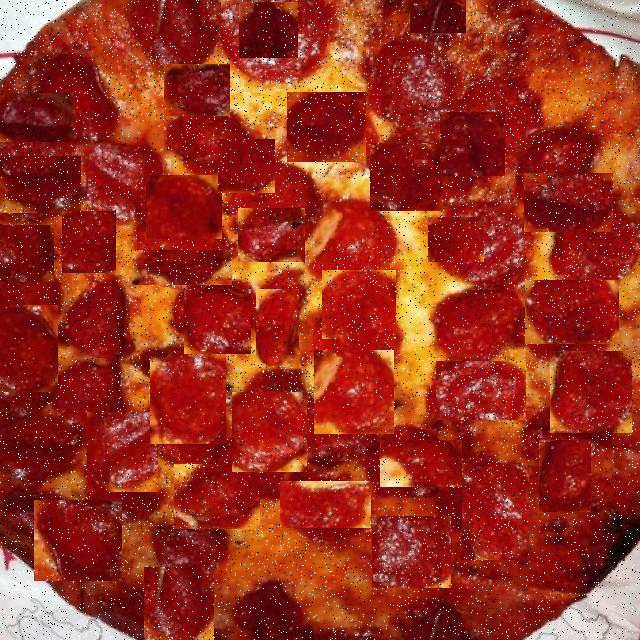Pepperoni: (230, 550, 313, 640), (34, 500, 122, 581), (150, 354, 226, 444), (550, 351, 632, 433), (314, 350, 394, 434), (462, 463, 529, 560), (525, 280, 619, 344), (232, 392, 307, 472), (372, 516, 451, 588), (87, 412, 158, 492), (288, 92, 368, 162), (174, 464, 260, 529), (0, 419, 71, 496), (436, 362, 526, 422), (524, 173, 613, 232), (438, 282, 521, 344), (144, 567, 214, 640), (322, 270, 396, 339), (0, 305, 58, 392), (370, 143, 443, 211), (146, 175, 222, 239), (87, 120, 165, 182), (0, 156, 81, 213), (68, 280, 126, 358), (184, 290, 251, 356), (280, 481, 371, 528), (440, 112, 505, 176), (380, 440, 462, 487), (539, 440, 591, 512), (0, 94, 73, 144), (316, 179, 371, 245), (238, 208, 305, 262), (132, 250, 232, 285), (164, 64, 230, 116), (256, 289, 299, 367), (62, 211, 116, 273), (239, 2, 298, 58), (0, 225, 54, 282), (218, 139, 275, 193), (428, 217, 484, 262), (410, 0, 466, 33)
Pizza: (0, 0, 640, 640)
